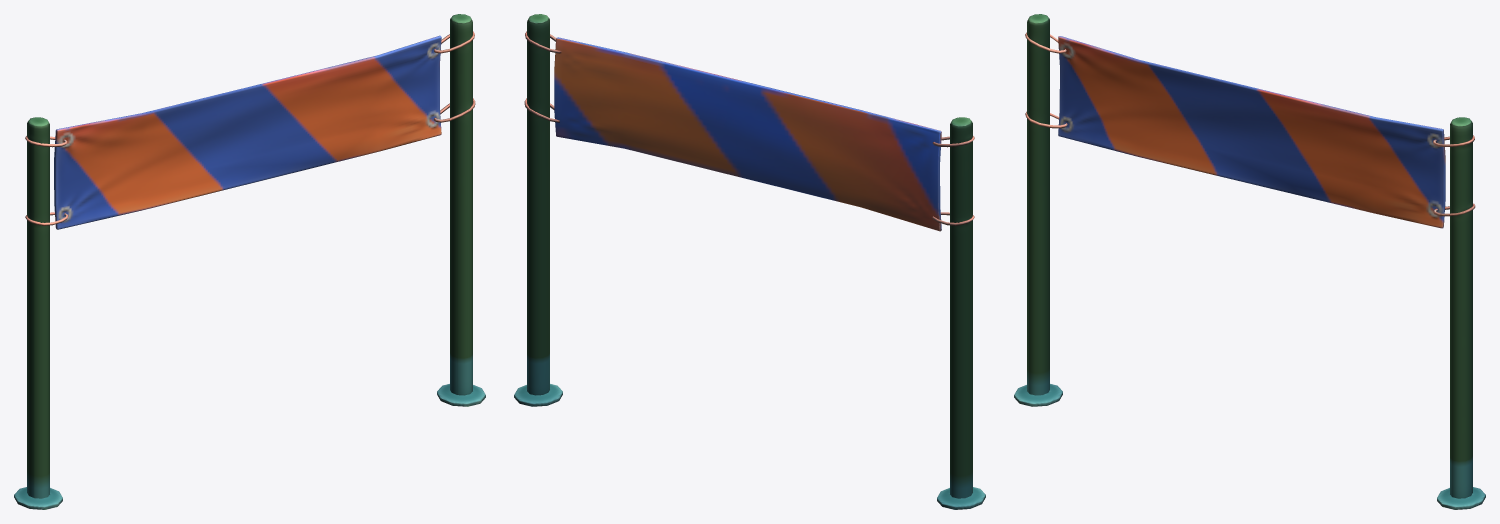
Rendered from Barrier_3.fbx.
3 renders of one model, left to right at view 1: azimuth 30°, elevation 25°; view 2: azimuth 150°, elevation 25°; view 3: azimuth 330°, elevation 25°, orthographic.
Parts seen in each view (by area): view 1: Barrier_3; view 2: Barrier_3; view 3: Barrier_3.
Part boxes in pixels (<box>): Barrier_3: <box>14,14,485,509</box>; Barrier_3: <box>514,14,985,509</box>; Barrier_3: <box>1014,14,1485,509</box>.
Size of the model in its own units: 202 by 157 by 19.03.
